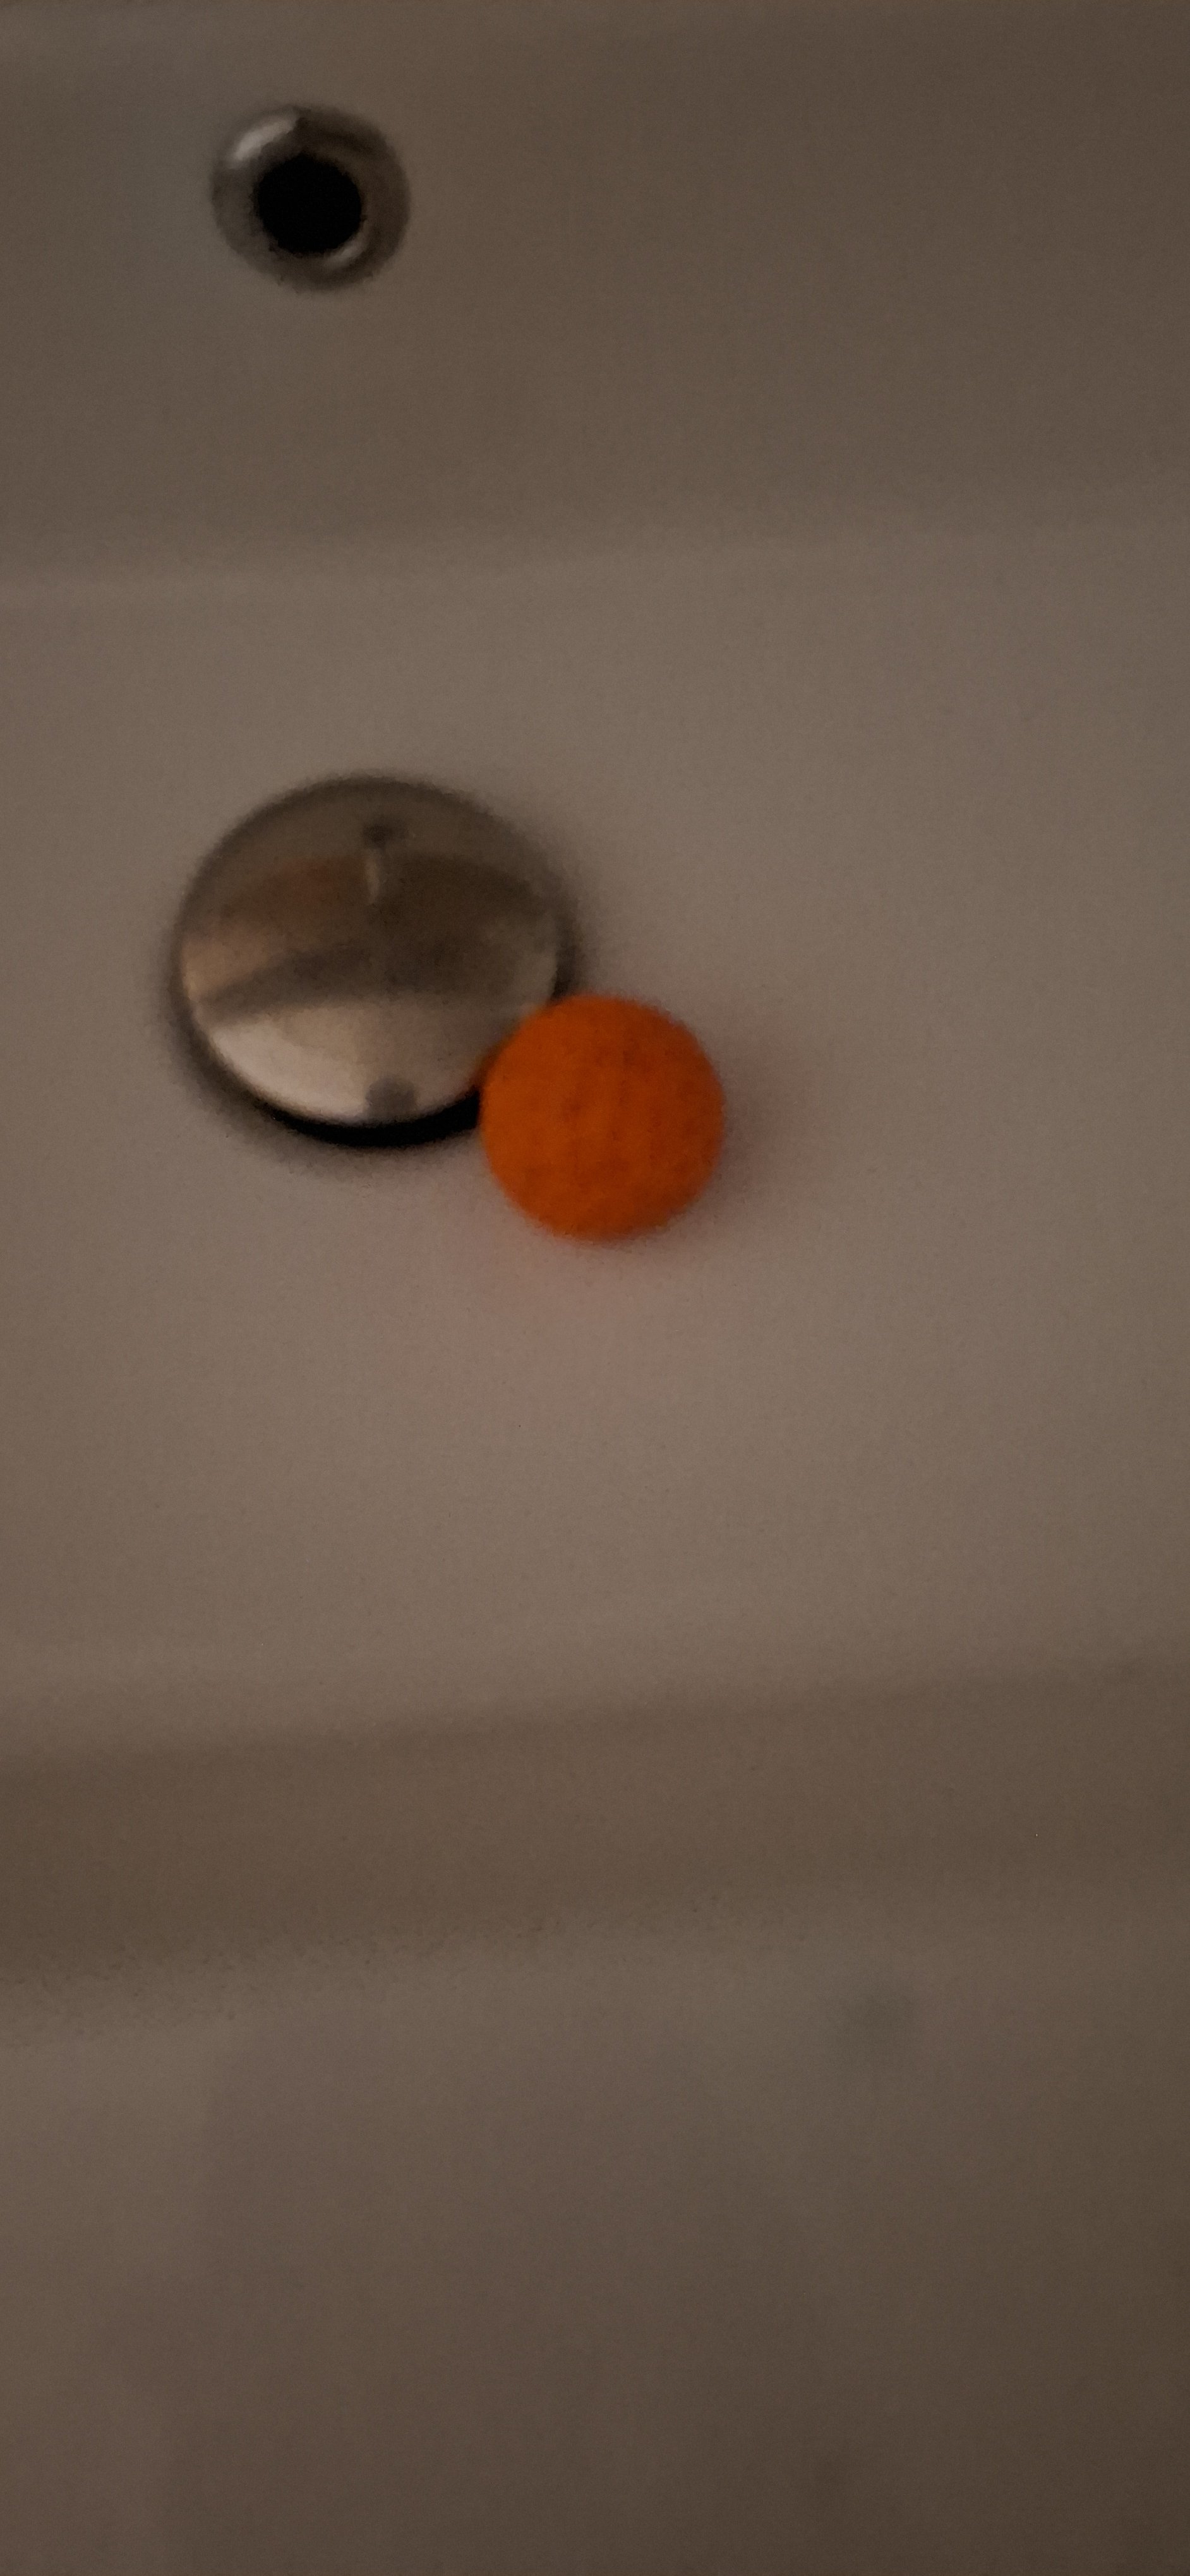ball: (460, 1002, 572, 1536)
